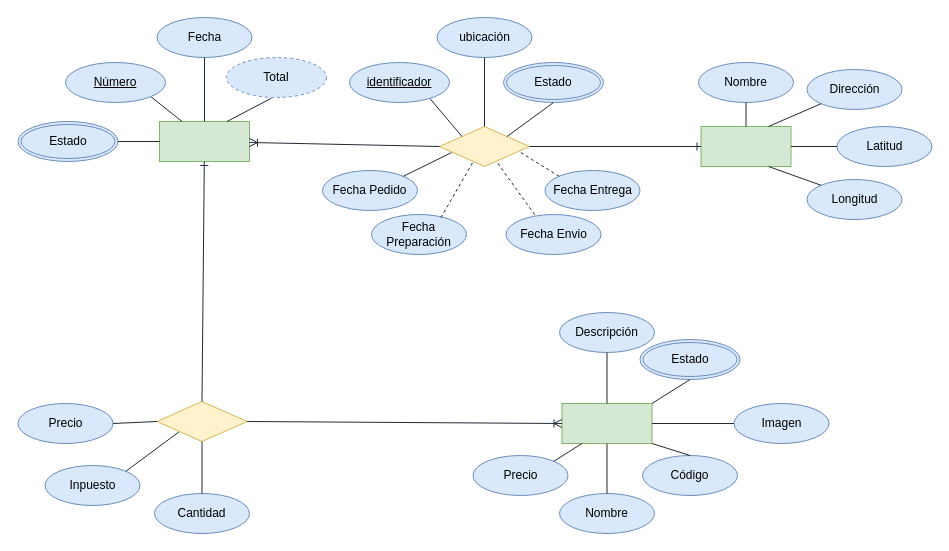
The diagram is 949 pixels wide and 551 high, and some of its shapes have lost their labels. Here are the shapes that lost their labels. From the top down, the box of each, then its label:
(158, 120, 250, 162): Factura
(438, 126, 530, 166): Pide
(700, 126, 791, 166): Cliente
(156, 400, 247, 442): Contiene
(561, 402, 652, 444): Producto
